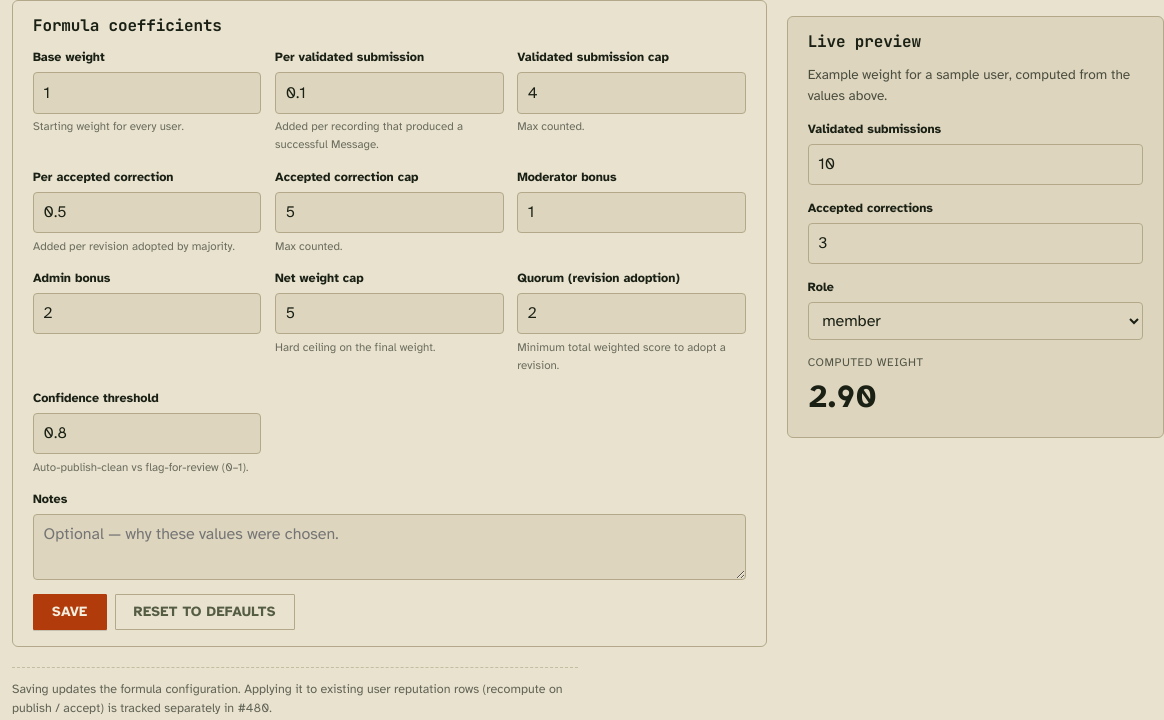
Test: ReputationConfigEditor › applies the net weight cap in the preview
expect the dropdown labelled "Role" is shown: met, box [808,302,1143,340]
Replace the text in the number field labelled "Validated submissions" with "4" at (975, 165), box [808,144,1143,185]
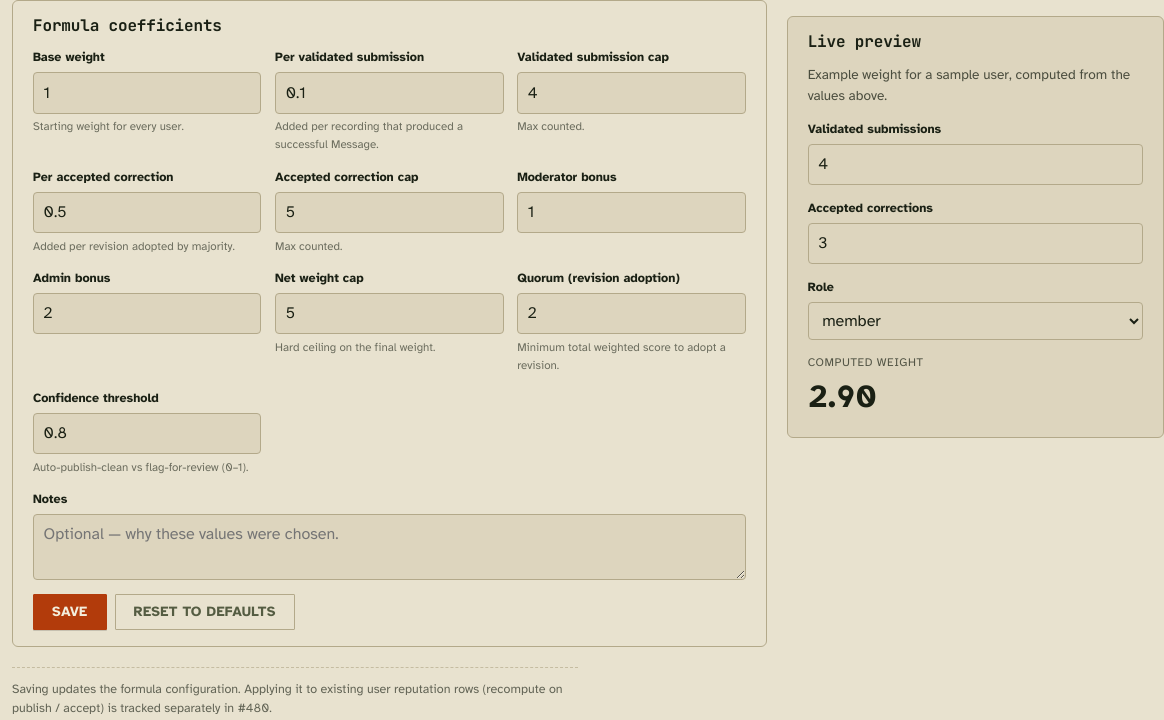
Replace the text in the number field labelled "Accepted corrections" with "5" at (975, 244), box [808,223,1143,264]
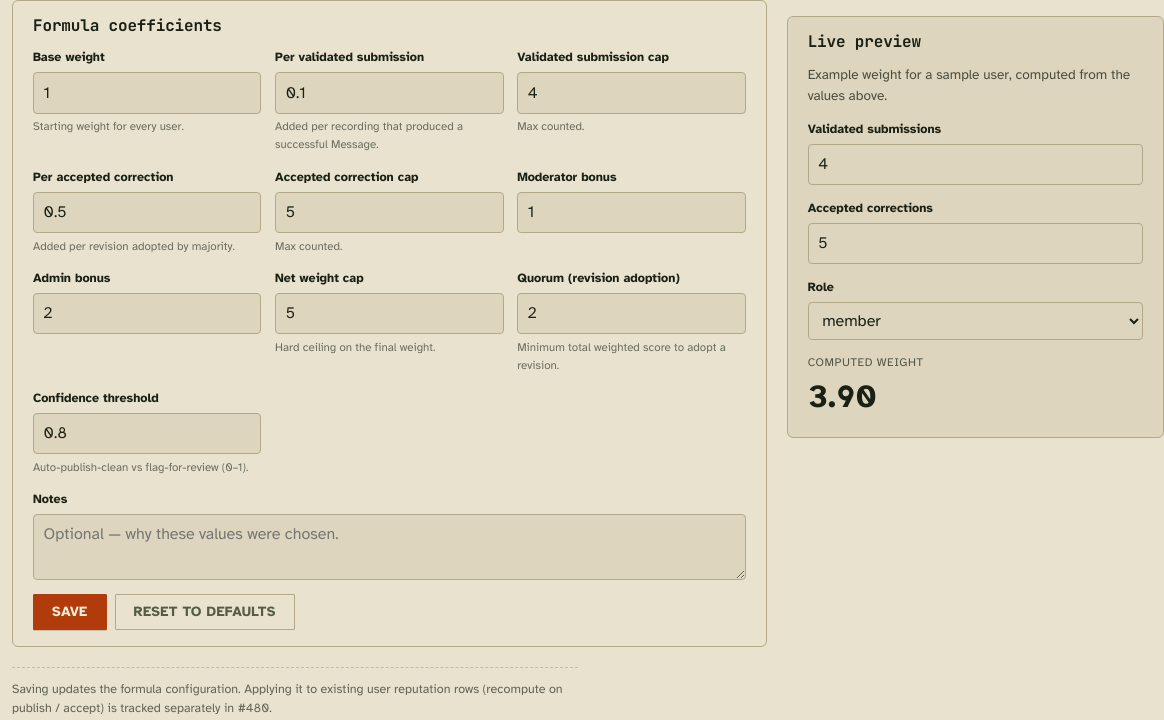
Select "admin" in the dropdown labelled "Role" at (975, 321), box [808,302,1143,340]
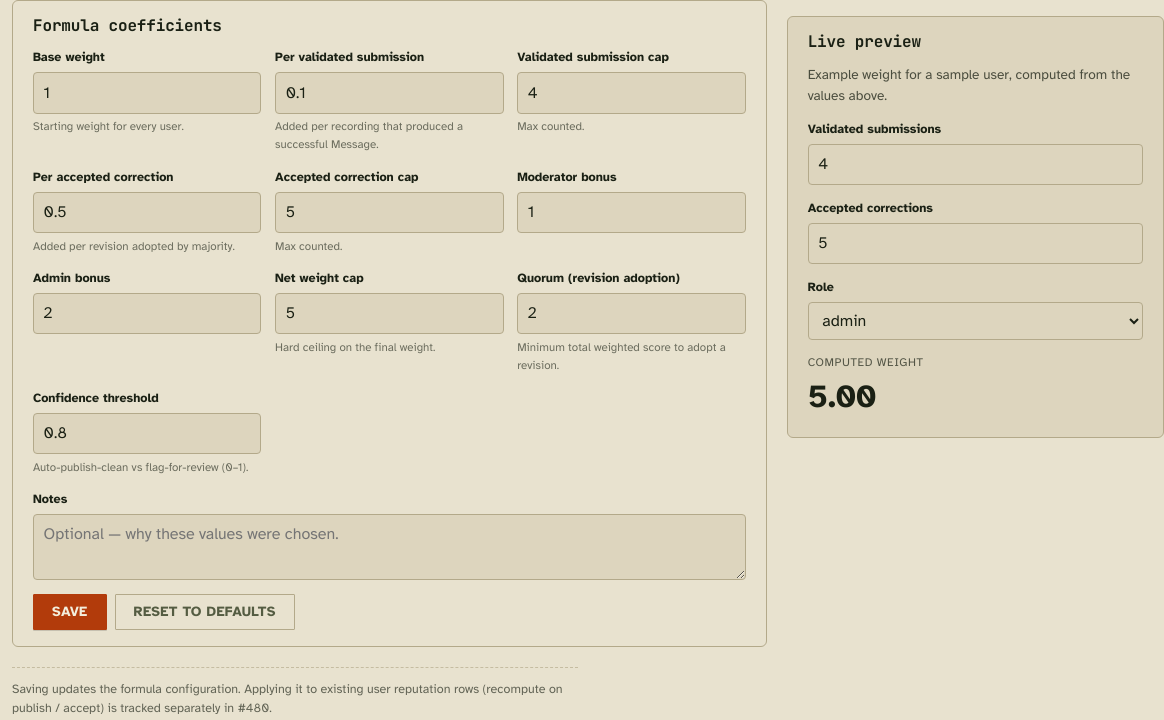
expect the text with test id "preview-weight" reads "5.00": met, box [808,377,876,416]
